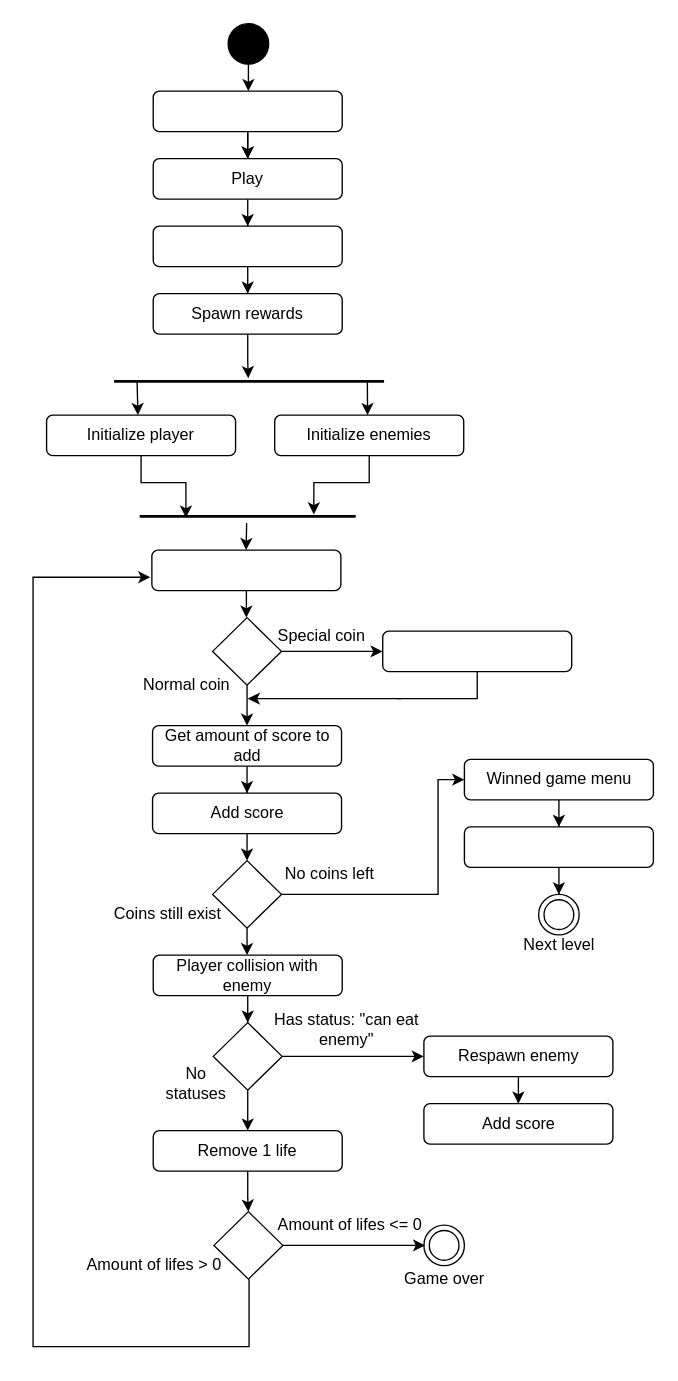
This 678x1381 diagram has some shape labels left out. Here are the shapes that lost their labels. From the top down, the box of each, then its label:
(152, 90, 342, 132): Select level
(152, 225, 342, 267): Generate board
(151, 549, 341, 591): Player collected coin
(381, 630, 572, 672): Grant player "can eat enemy" status for 5s
(463, 826, 653, 867): Unlock next level
